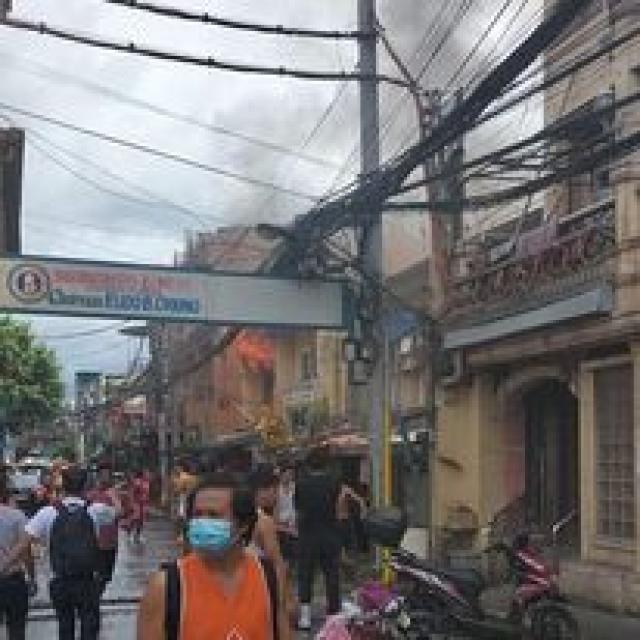Fire: (226, 325, 274, 380)
